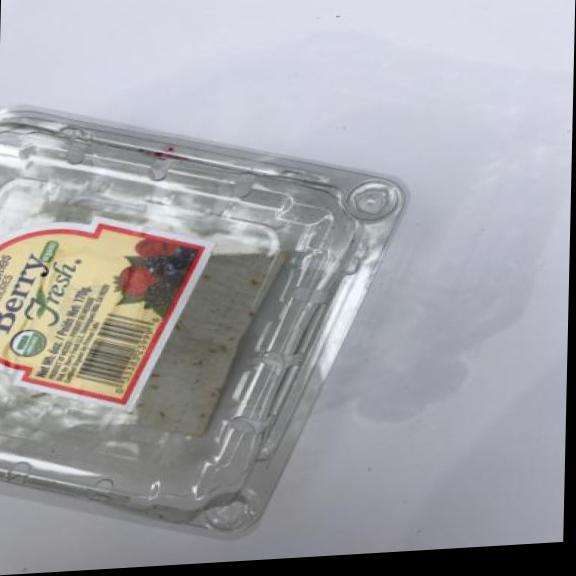Plastik: (0, 79, 418, 556)
